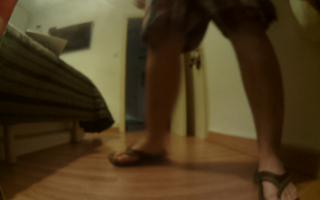person: (105, 1, 302, 200)
